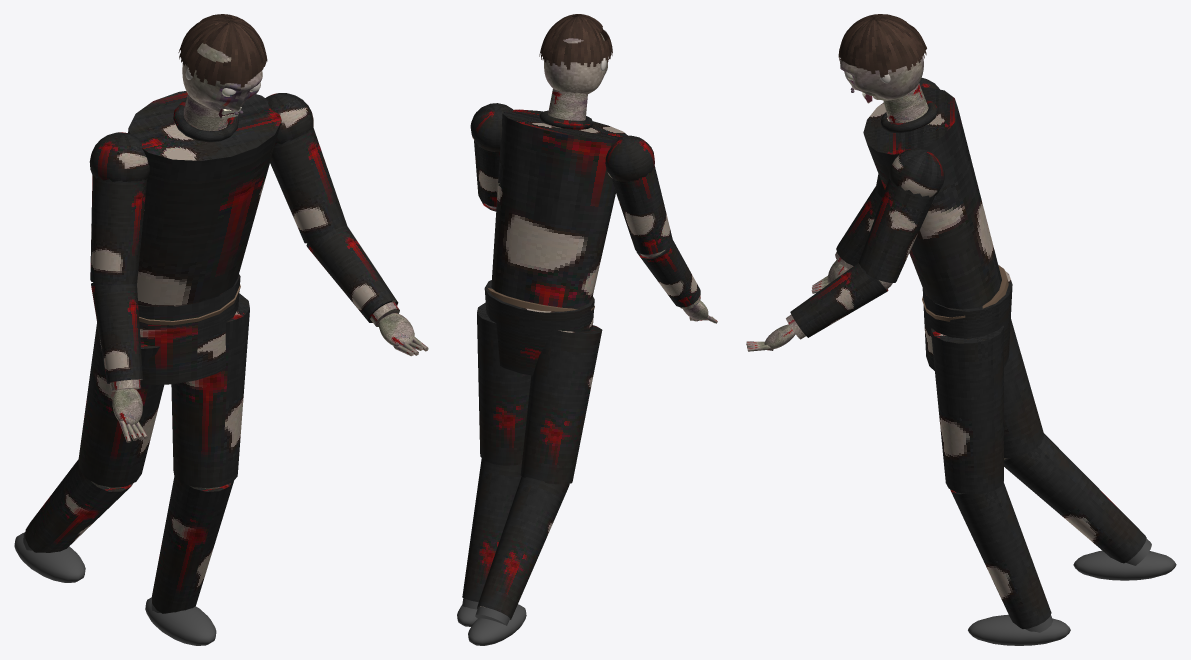
Rendered from Zombie_089.glb.
The picture shows the model from 3 angles, left to right: view 1: azimuth 30°, elevation 25°; view 2: azimuth 150°, elevation 25°; view 3: azimuth 270°, elevation 25°; orthographic projection. The views are drawn at different scales.
Visible parts, largest first — view 1: Zombie_089, object 45, object 4, object 12, object 18, object 5, object 13; view 2: Zombie_089, object 45, object 4, object 18, object 44; view 3: Zombie_089, object 45, object 12, object 18, object 4.
Part boxes in pixels (x1,y1,x2,y2): Zombie_089: (14, 91, 346, 645); object 45: (178, 14, 267, 87); object 4: (91, 282, 142, 383); object 12: (306, 225, 398, 322); object 18: (182, 43, 262, 112); object 5: (112, 388, 142, 425); object 13: (378, 313, 414, 346); Zombie_089: (457, 89, 672, 645); object 45: (539, 14, 612, 66); object 4: (636, 240, 700, 307); object 18: (544, 33, 607, 94); object 44: (541, 17, 610, 69); Zombie_089: (859, 77, 1176, 645); object 45: (838, 14, 926, 75); object 12: (790, 263, 888, 337); object 18: (840, 56, 923, 100); object 4: (836, 186, 881, 265).
Size of the model in its own units: 0.762 by 1.87 by 1.19.
16 materials, 6 textured.
